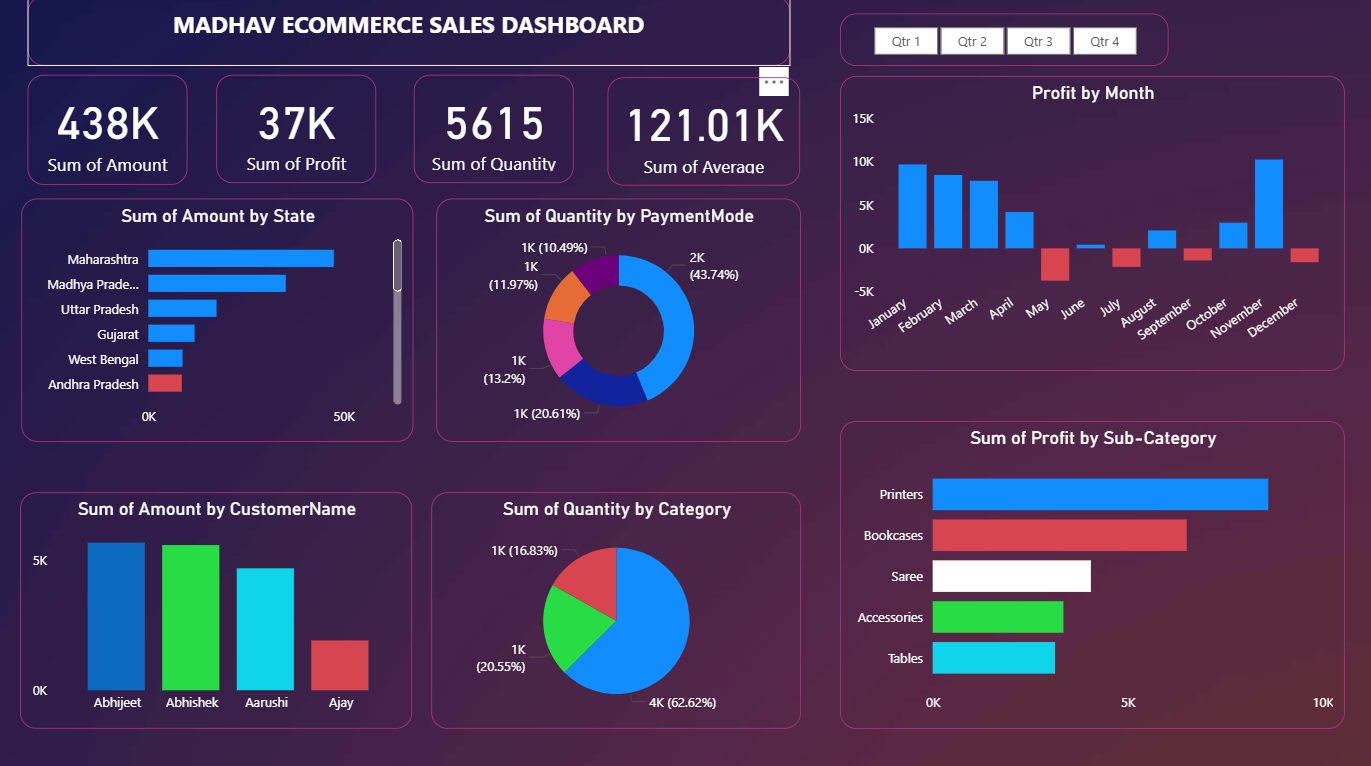

The dashboard page shown, as its layout file describes it:
{"tool":"powerbi","page":{"name":"Page 1","canvas":[1280,720],"ordinal":0},"visuals":[{"type":"textbox","box":[25.6,0,709.3,65.1],"z":0},{"type":"columnChart","title":"Profit by Month","fields":{"Category":["Orders (1).Order Date.Variation.Date Hierarchy.Month"],"Y":["Details (1).Profit"]},"box":[781.4,74.4,469.8,274.4],"z":1000},{"type":"barChart","fields":{"Category":["Details (1).Sub-Category"],"Y":["Details (1).Profit"]},"box":[781.4,395.3,469.8,286],"z":2000},{"type":"pieChart","fields":{"Category":["Details (1).Category"],"Y":["Details (1).Quantity"]},"box":[401.2,461.6,344.2,219.8],"z":3000},{"type":"donutChart","fields":{"Category":["Details (1).PaymentMode"],"Y":["Details (1).Quantity"]},"box":[406.2,188,338.9,226.4],"z":4000},{"type":"card","fields":{"Values":["Details (1).Amount"]},"box":[25.6,73.3,148.8,102.3],"z":5000},{"type":"card","fields":{"Values":["Details (1).Profit"]},"box":[201.2,73.3,148.8,101.2],"z":6000},{"type":"card","fields":{"Values":["Details (1).Quantity"]},"box":[384.9,73.3,148.8,101.2],"z":7000},{"type":"card","fields":{"Values":["Details (1).Average"]},"box":[565.1,75.6,179.1,101.2],"z":8000},{"type":"barChart","fields":{"Category":["Orders (1).State","Details (1).Sub-Category"],"Y":["Details (1).Amount"]},"box":[19.2,188,365,226.4],"z":9000},{"type":"columnChart","fields":{"Category":["Orders (1).CustomerName"],"Y":["Details (1).Amount"]},"box":[19,462,365,220],"z":10000},{"type":"slicer","fields":{"Values":["Orders (1).Order Date.Variation.Date Hierarchy.Quarter"]},"box":[781.4,16.3,305.8,48.8],"z":10001}]}

Visuals, with their boxes in screenshot pixels (x1, y1, x2, y2), scaled from the page's 1280x720 canvas onto the 1371x766 screenshot:
textbox: (27, 0, 787, 69)
"Profit by Month" columnChart: (837, 79, 1340, 371)
barChart - Details (1).Sub-Category x Details (1).Profit: (837, 421, 1340, 725)
pieChart - Details (1).Category x Details (1).Quantity: (430, 491, 798, 725)
donutChart - Details (1).PaymentMode x Details (1).Quantity: (435, 200, 798, 441)
card - Details (1).Amount: (27, 78, 187, 187)
card - Details (1).Profit: (216, 78, 375, 186)
card - Details (1).Quantity: (412, 78, 572, 186)
card - Details (1).Average: (605, 80, 797, 188)
barChart - Orders (1).State x Details (1).Sub-Category: (21, 200, 412, 441)
columnChart - Orders (1).CustomerName x Details (1).Amount: (20, 492, 411, 726)
slicer - Orders (1).Order Date.Variation.Date Hierarchy.Quarter: (837, 17, 1164, 69)
